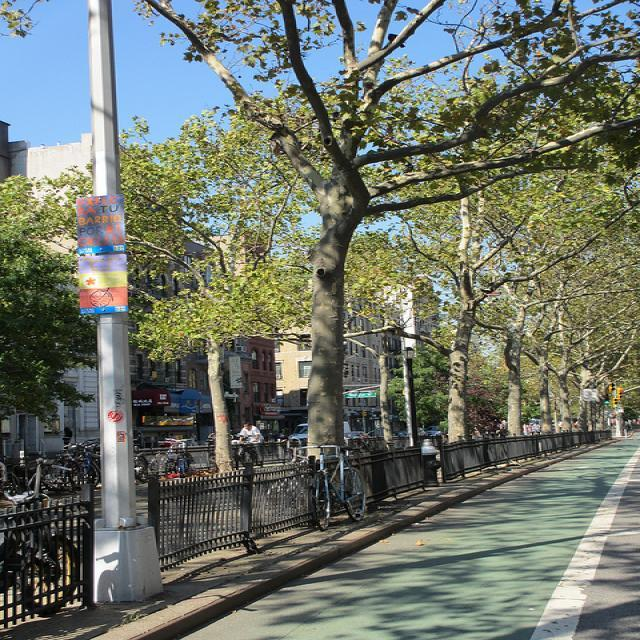fire_hydrant: (419, 439, 442, 486)
